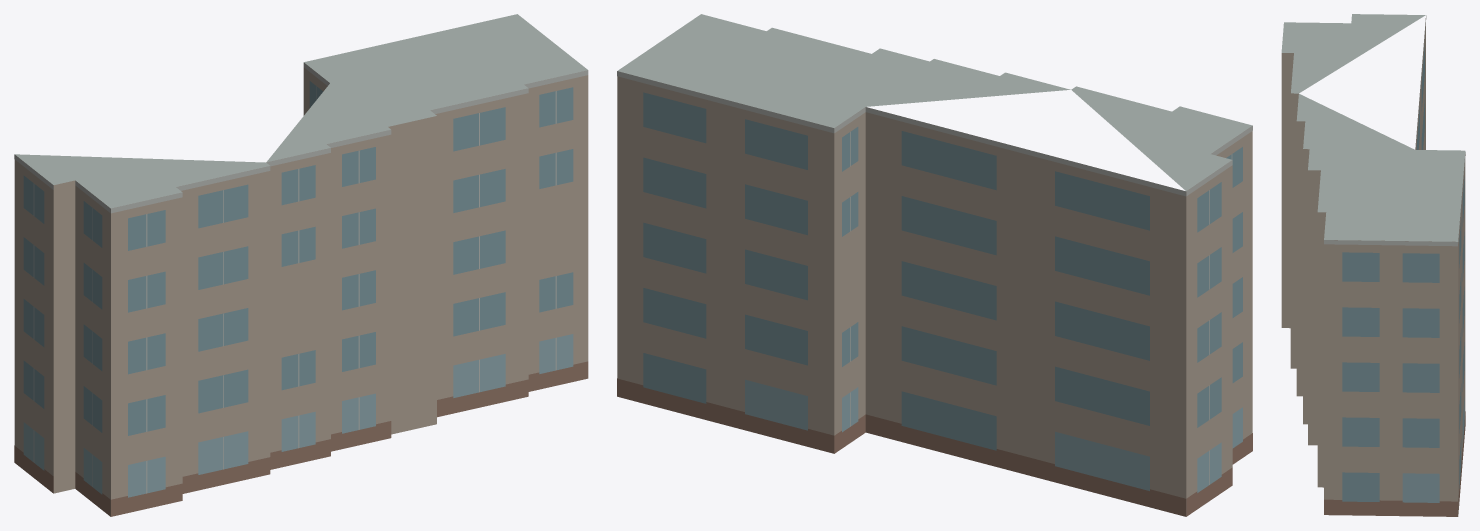
The model's file is survey-upis-32996300.glb.
3 renders of one model, left to right at view 1: azimuth 30°, elevation 25°; view 2: azimuth 150°, elevation 25°; view 3: azimuth 270°, elevation 25°, orthographic. The views are drawn at different scales.
Parts seen in each view (by area): view 1: survey-upis-32996300.tmp; view 2: survey-upis-32996300.tmp; view 3: survey-upis-32996300.tmp.
Part boxes in pixels (box(x1,y1,x2,y2)): survey-upis-32996300.tmp: box(14, 14, 588, 516); survey-upis-32996300.tmp: box(617, 14, 1252, 516); survey-upis-32996300.tmp: box(1281, 14, 1465, 516).
Size of the model in its own units: 27.1 by 15.25 by 9.25.
